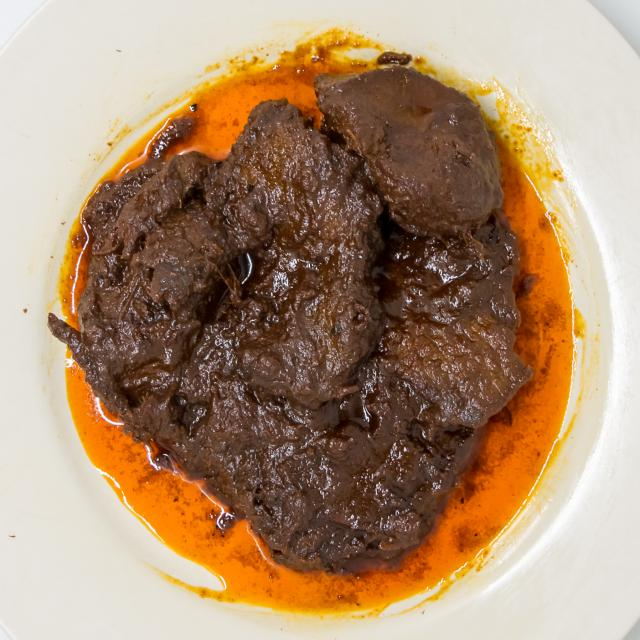Rendang: (54, 61, 542, 584)
